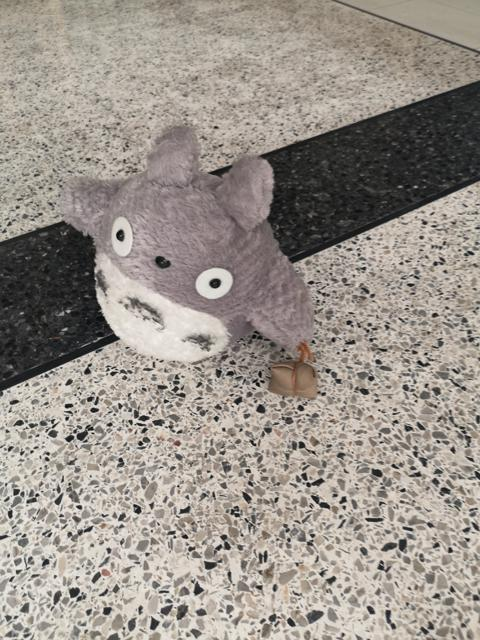totoro: (56, 119, 324, 402)
